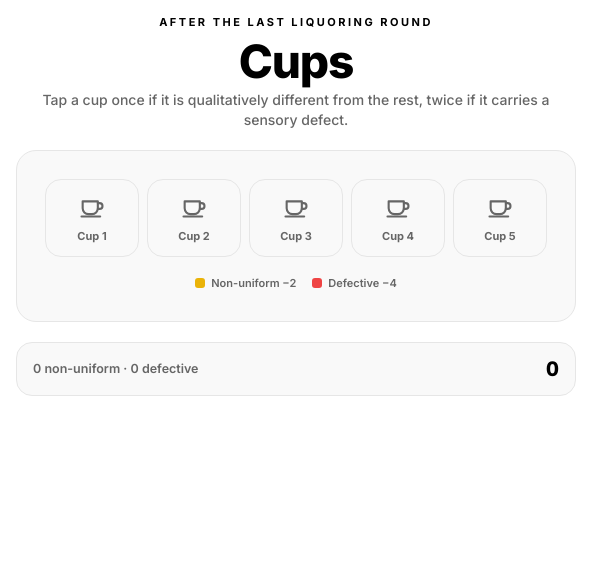
Test case: CupsStep — SCA-104 §5.4 › a second tap marks it defective, asks for the type, and does NOT count it yet (§5.4.1)
The width and height of the screenshot is (593, 561).
Click the button "Cup 4".
click(398, 218)  # box [351,179,445,257]
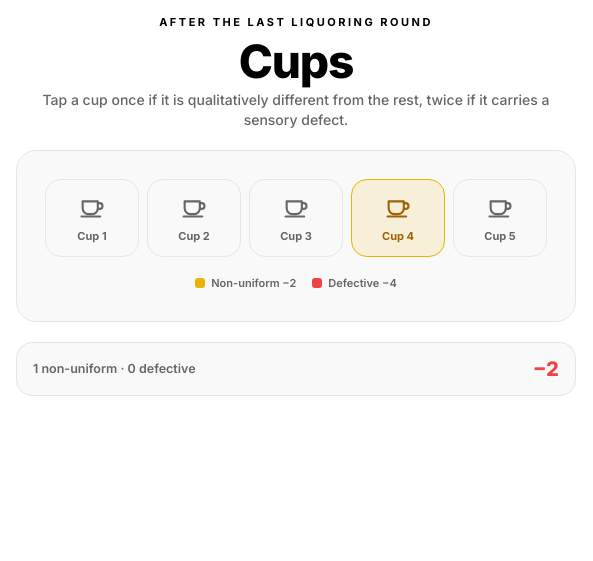
Click the button "Cup 4".
click(398, 218)  # box [351,179,445,257]
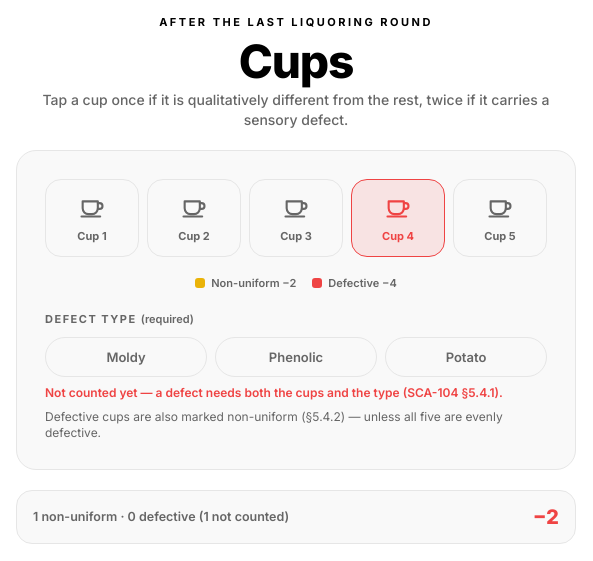
Now the text with test id "cups-penalty" reads "−2", box [533,505,559,529]
Now the text "Defect type (required)" is shown, box [45,312,194,326]
Now the text "Not counted yet" is shown, box [45,385,503,400]
